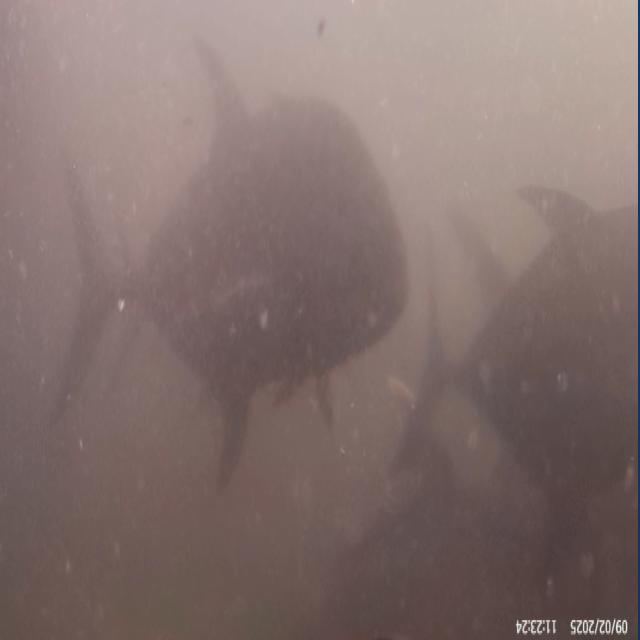ikan: (48, 33, 410, 492), (387, 178, 638, 600)
